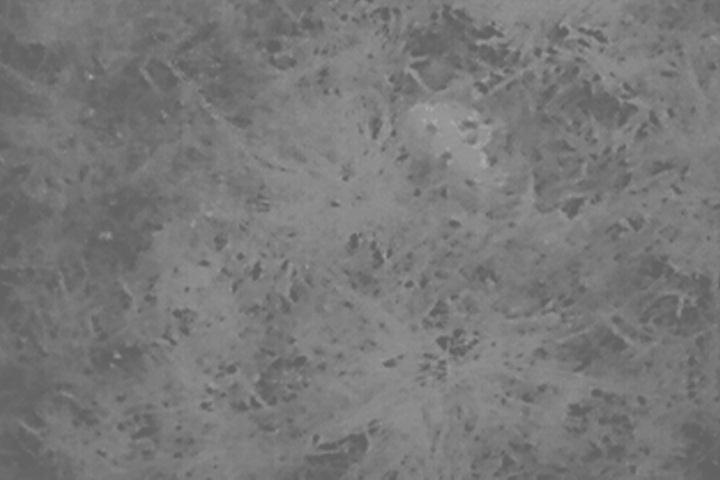landmine: (401, 97, 507, 187)
